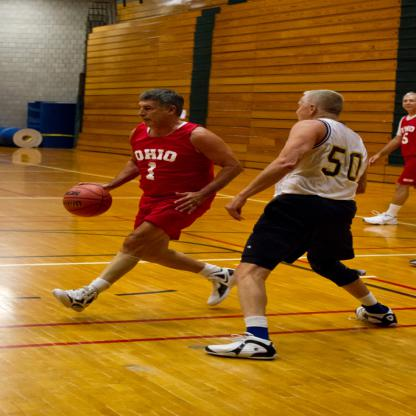Ball: (63, 184, 115, 219)
